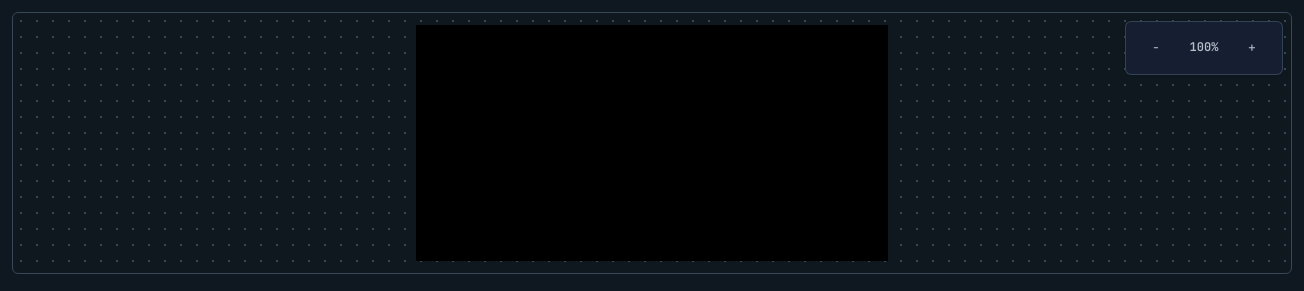
Test: CanvasViewport › ends a cancelled drag and ignores other pointers and toolbar interactions
The width and height of the screenshot is (1304, 291).
Later steps or results of the test are not shown.
Press the mouse on the picture named "Workflow diagram" at (652, 143), box left=13, top=13, right=1291, bottom=273
Press the mouse on the button named "zoom in" at (1252, 48), box left=1230, top=26, right=1274, bottom=70
Click the button named "zoom in".
click(1252, 48)  # box left=1230, top=26, right=1274, bottom=70
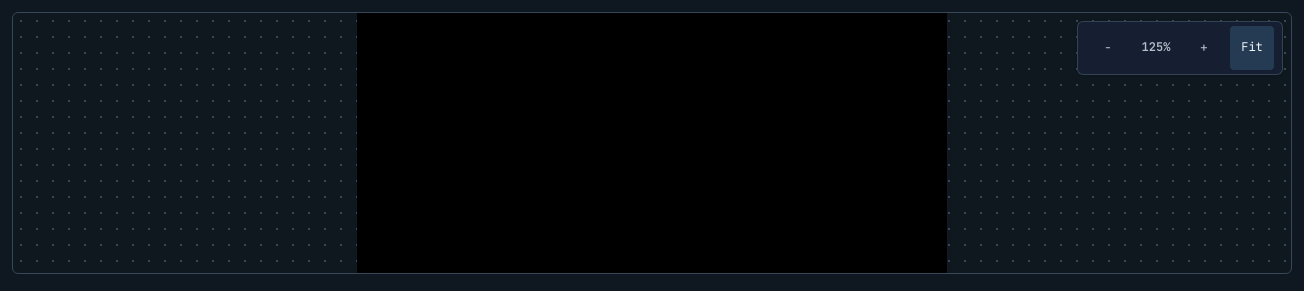
Check: the button named "reset zoom to 100%" reads "125%", box left=1134, top=26, right=1178, bottom=70
